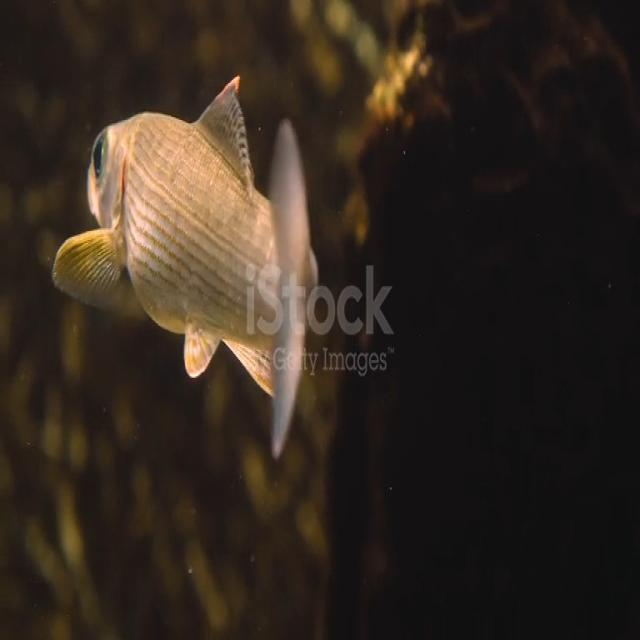fish: (56, 73, 320, 455)
